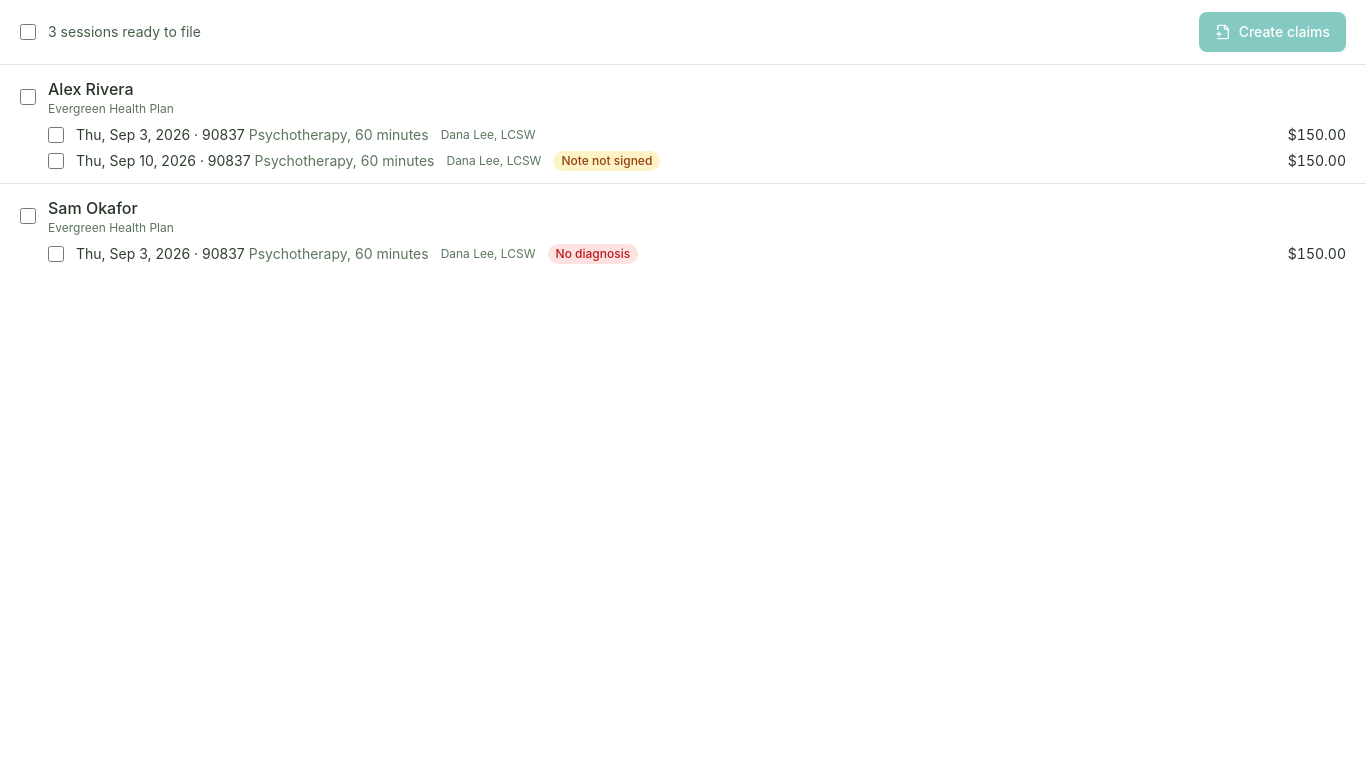
ready to file › creates claims for the chosen sessions without asking when nothing needs attention
Click the checkbox named "Select Alex Rivera, Thu, Sep 3" at (56, 135), box 48,127 -> 64,143
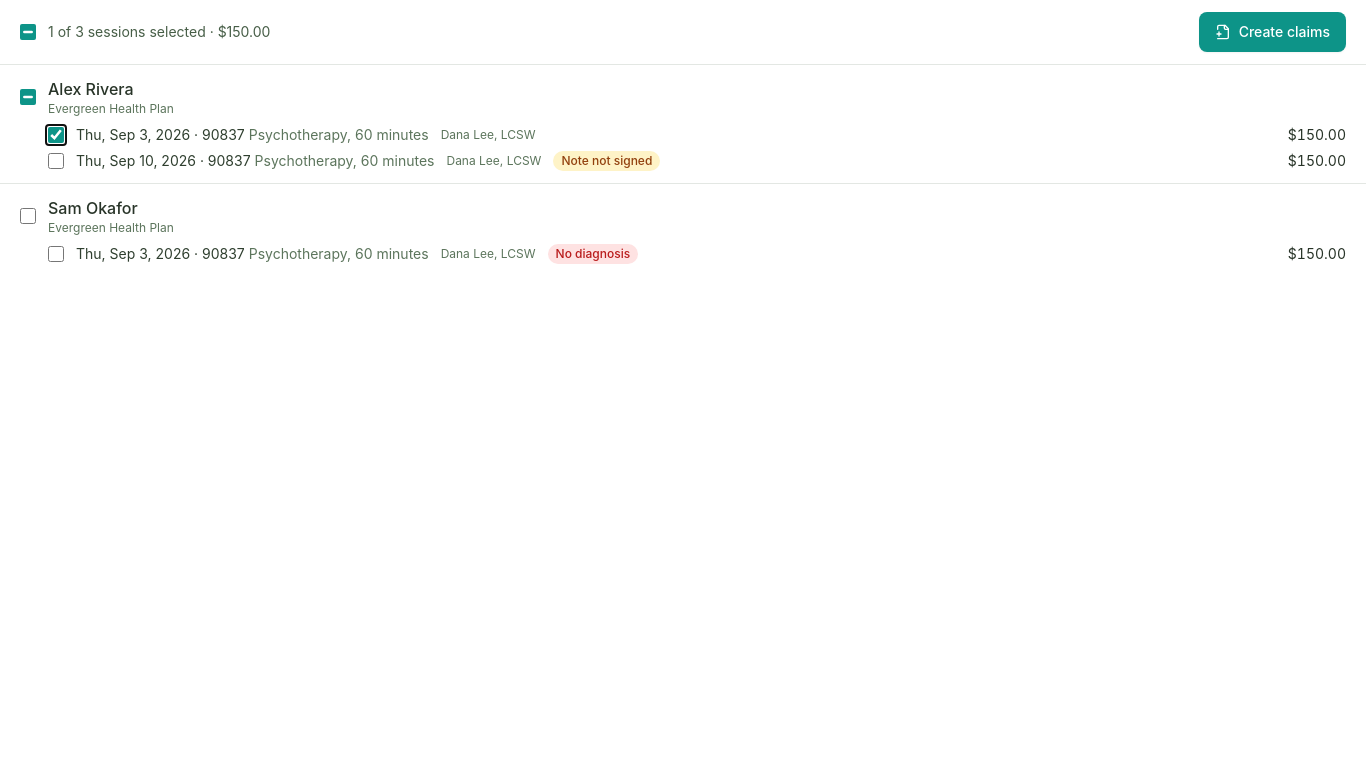
Now the text "1 of 3 sessions selected · $150.00" is shown, box 48,22 -> 270,42
Click the button "Create claims" at (1272, 32), box 1199,12 -> 1346,52
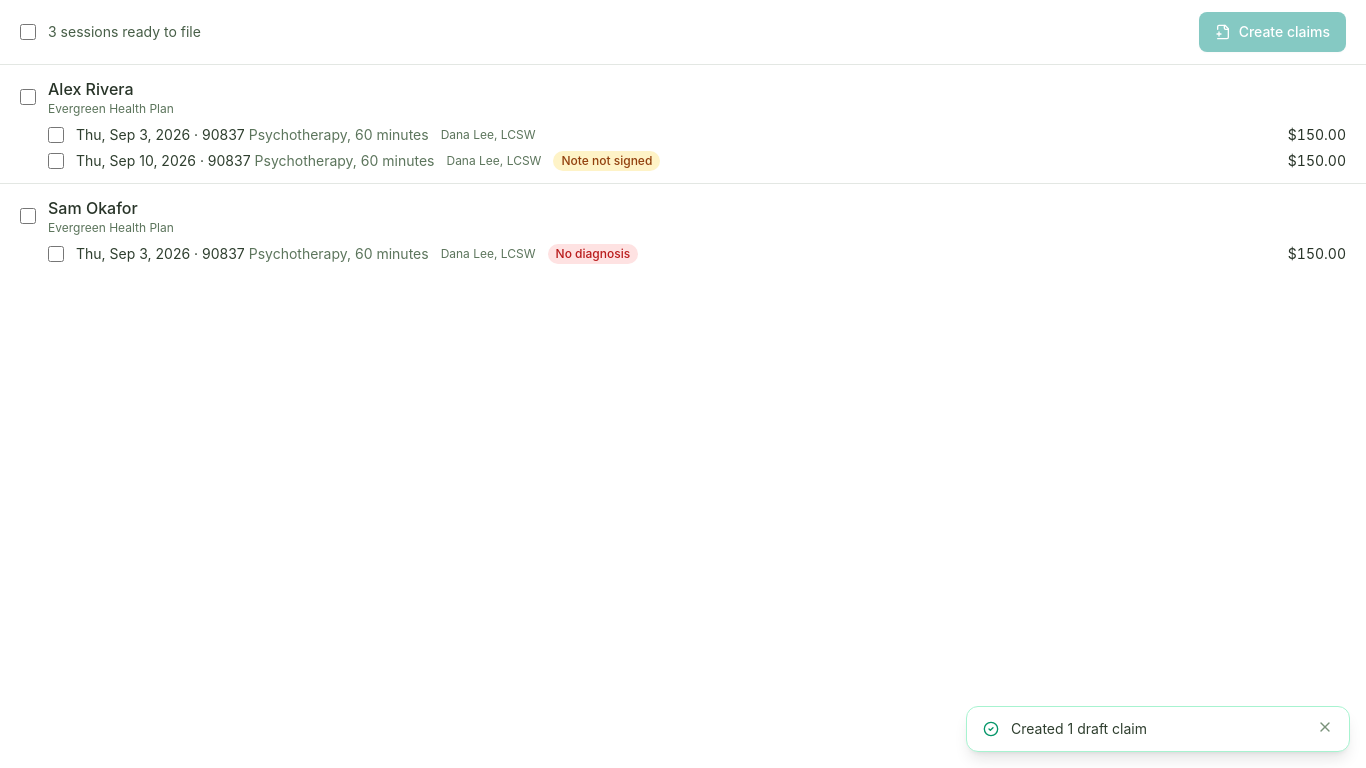
Now the text "Created 1 draft claim" is shown, box 1011,720 -> 1147,737
